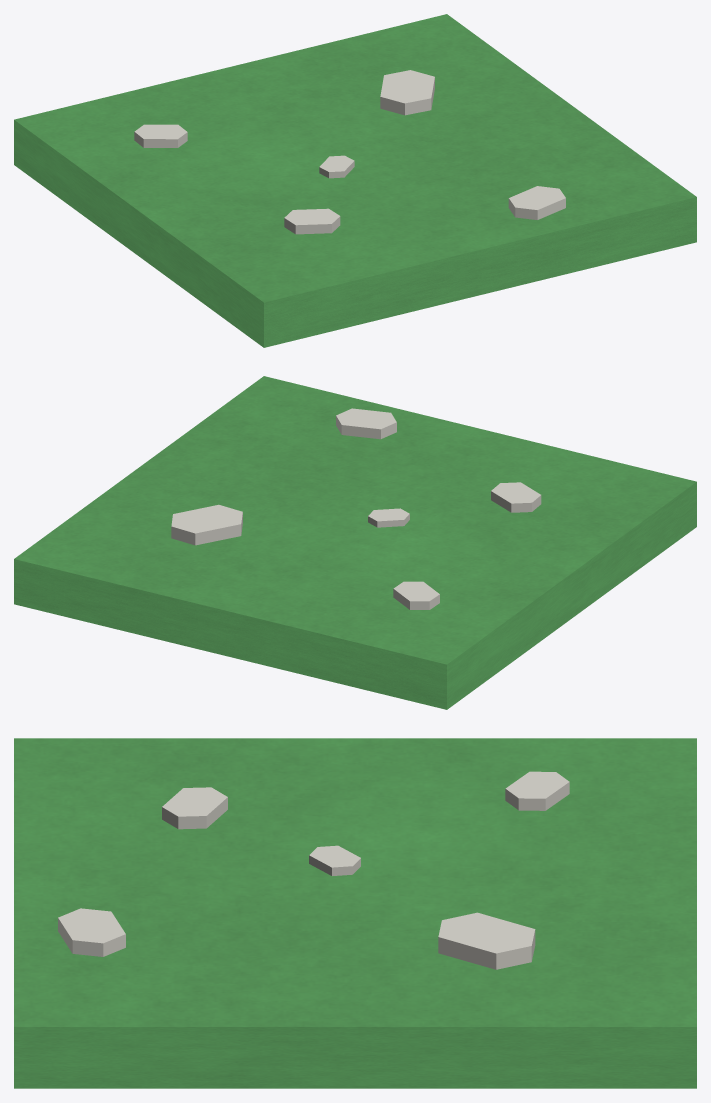
Rendered from ground_stone.glb.
3 renders of one model, top to bottom at view 1: azimuth 30°, elevation 25°; view 2: azimuth 150°, elevation 25°; view 3: azimuth 270°, elevation 25°, orthographic. The views are drawn at different scales.
Visible parts, largest first — view 1: StoneFloor; view 2: StoneFloor; view 3: StoneFloor.
Part boxes in pixels (box(x1,y1,x2,y2)): StoneFloor: box(14, 14, 696, 347); StoneFloor: box(14, 376, 696, 709); StoneFloor: box(14, 738, 696, 1088).
Size of the model in its own units: 2 by 0.2527 by 2.
Materials: 2 (1 with a texture image).
